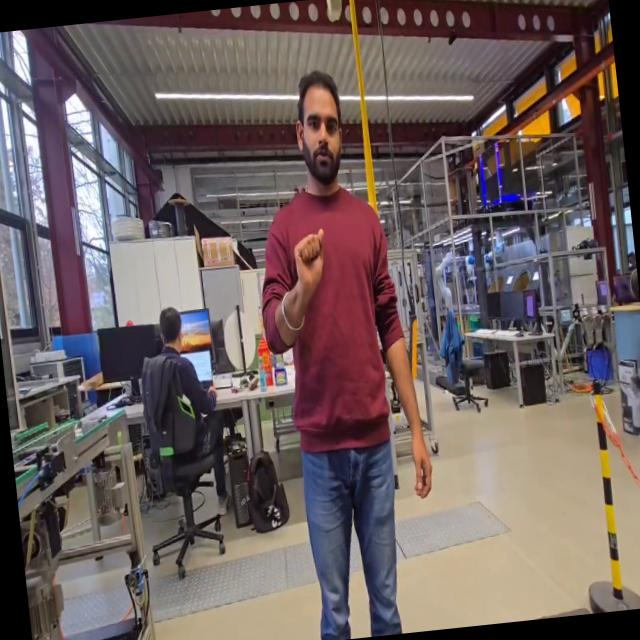closed_fist: (287, 220, 335, 304)
